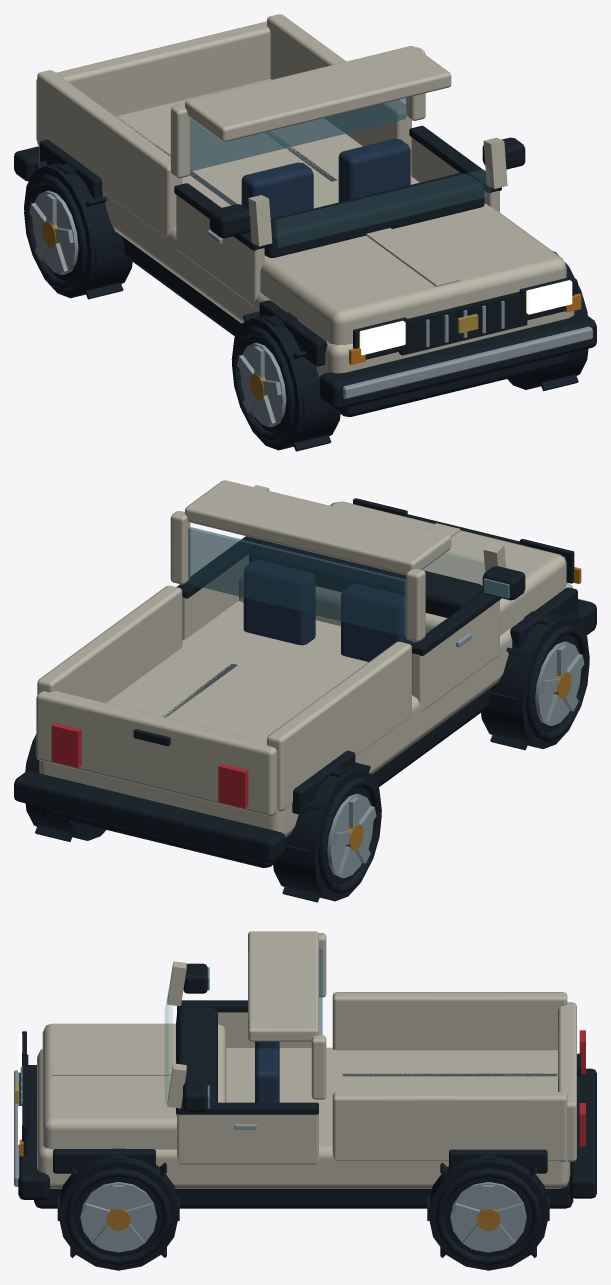
File: la-raulina.glb
3 renders of one model, top to bottom at view 1: azimuth 30°, elevation 25°; view 2: azimuth 150°, elevation 25°; view 3: azimuth 270°, elevation 25°, orthographic. The views are drawn at different scales.
Parts seen in each view (by area): view 1: sill_merged, underbody_merged, tire_merged (×3), seat-back_merged, low-windscreen, rim_merged (×2), rear-glass, door-handle_merged, headlight_merged, mirror-shell (×2), bed-ridge_merged; view 2: sill_merged, underbody_merged, tire_merged (×3), rear-glass, seat-back_merged, rim_merged (×2), tail-light_merged, low-windscreen, mirror-shell; view 3: sill_merged, underbody_merged, tire_merged (×2), rim_merged (×2), seat-back_merged, mirror-shell (×2), door-handle_merged, bed-ridge_merged, low-windscreen, tail-light_merged.
Part boxes in pixels (x1,y1,x2,y2): sill_merged: (36,14,574,377); underbody_merged: (14,125,596,416); tire_merged (×3): (24,160,588,451); seat-back_merged: (241,138,410,218); low-windscreen: (274,169,490,247); rim_merged (×2): (29,190,286,427); rear-glass: (190,98,405,171); door-handle_merged: (207,229,592,398); headlight_merged: (359,280,572,355); mirror-shell (×2): (209,137,525,238); bed-ridge_merged: (118,92,336,205); sill_merged: (36,480,572,837); underbody_merged: (14,498,596,867); tire_merged (×3): (25,611,589,902); rear-glass: (188,527,405,636); seat-back_merged: (243,560,412,661); rim_merged (×2): (327,641,584,878); tail-light_merged: (51,723,248,808); low-windscreen: (423,551,484,584); mirror-shell: (482,566,525,600); sill_merged: (37,931,576,1188); underbody_merged: (18,1000,596,1208); tire_merged (×2): (57,1148,549,1270); rim_merged (×2): (80,1182,526,1252); seat-back_merged: (255,1041,279,1102); mirror-shell (×2): (183,963,207,1112); door-handle_merged: (14,1066,256,1186); bed-ridge_merged: (342,1073,557,1076); low-windscreen: (165,989,172,1103); tail-light_merged: (579,1030,585,1146).
Bounding box in the file's own units: 2.79 × 2.22 × 5.14.
